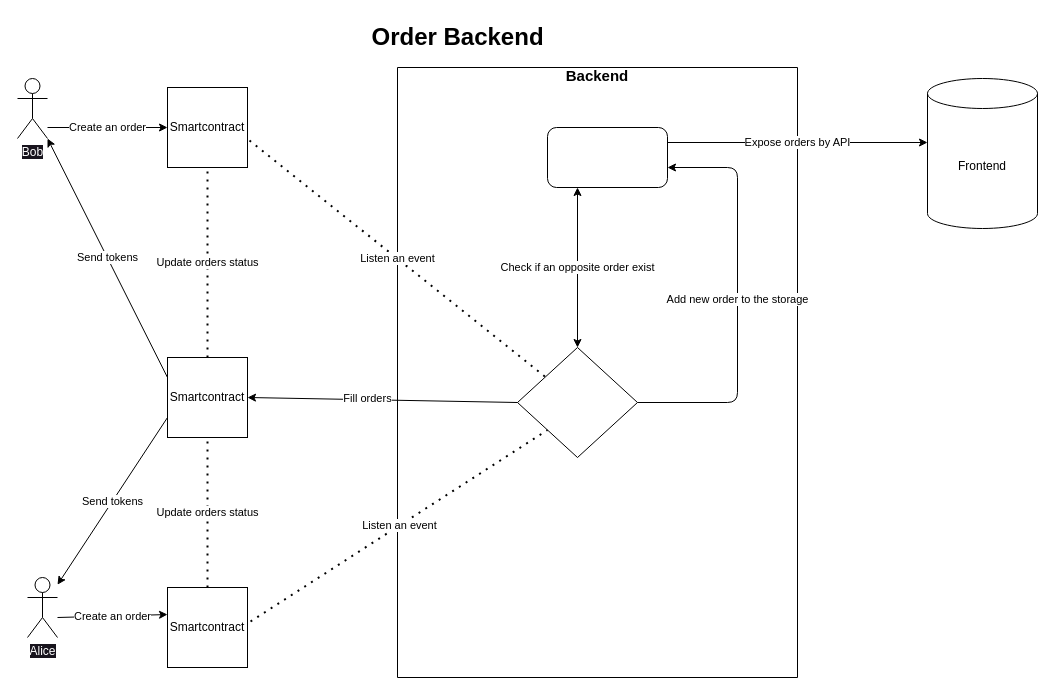
This 1055x695 diagram has some shape labels left out. The shapes that lost their labels are listed below. From the top down, each one's centre as x and y in pixels, then its label:
the point at 607,157: Storage
the point at 577,402: Process orders
